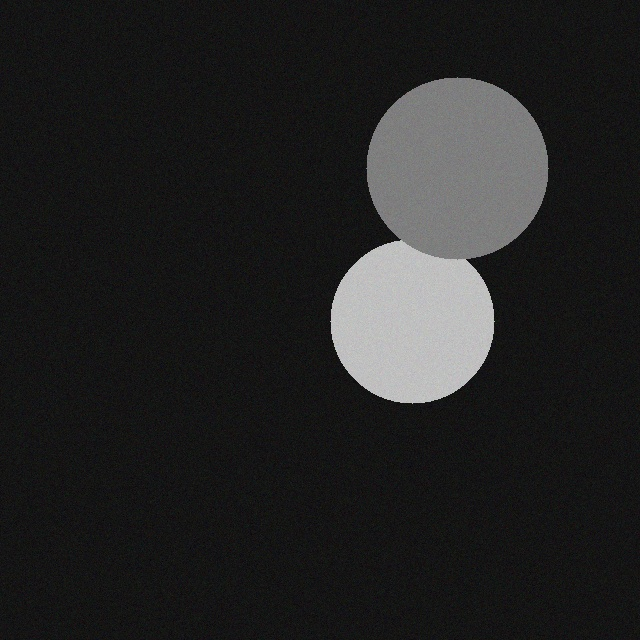circle: (358, 68, 540, 250), (322, 230, 486, 394)
